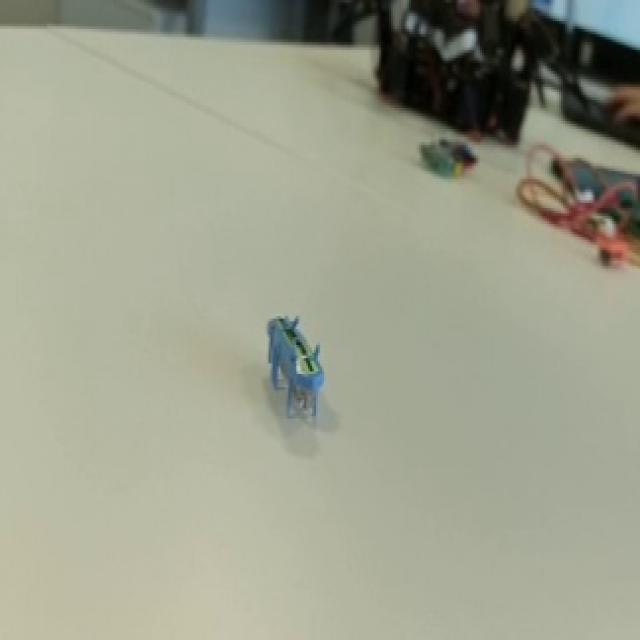3_NanoBug_Celeste: (218, 276, 356, 452)
